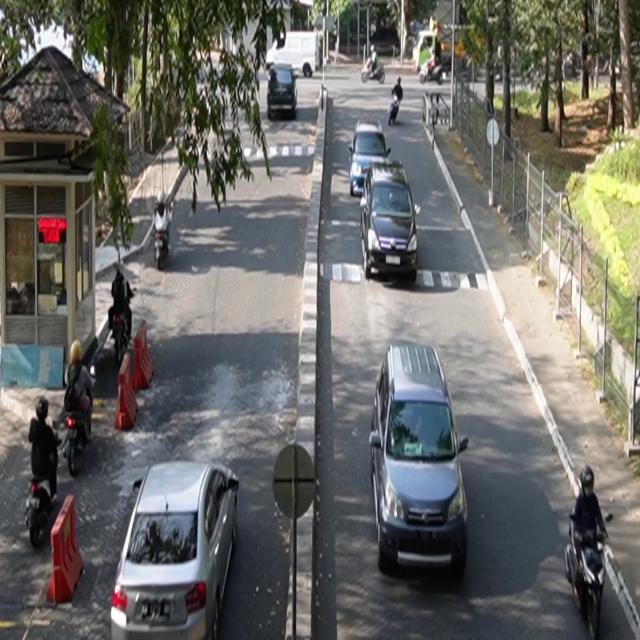car: (370, 341, 470, 578), (111, 461, 240, 640), (360, 160, 421, 281), (348, 120, 392, 198), (268, 64, 298, 121)
truck: (267, 31, 321, 79)
